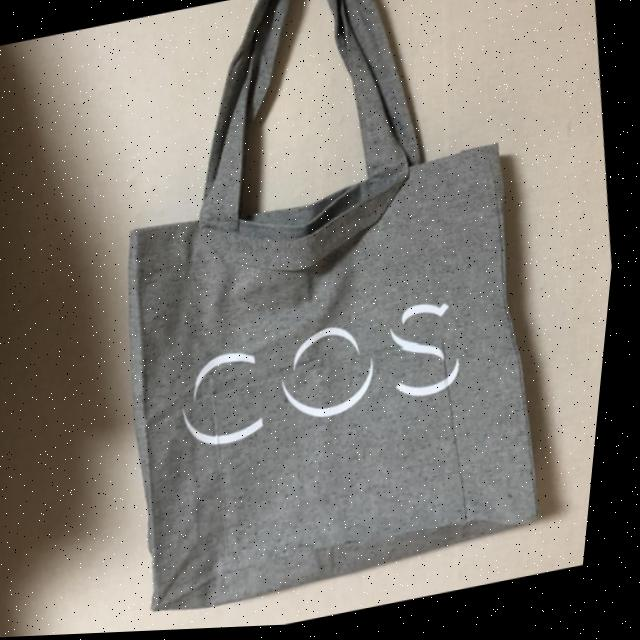ecobag: (35, 0, 613, 637)
